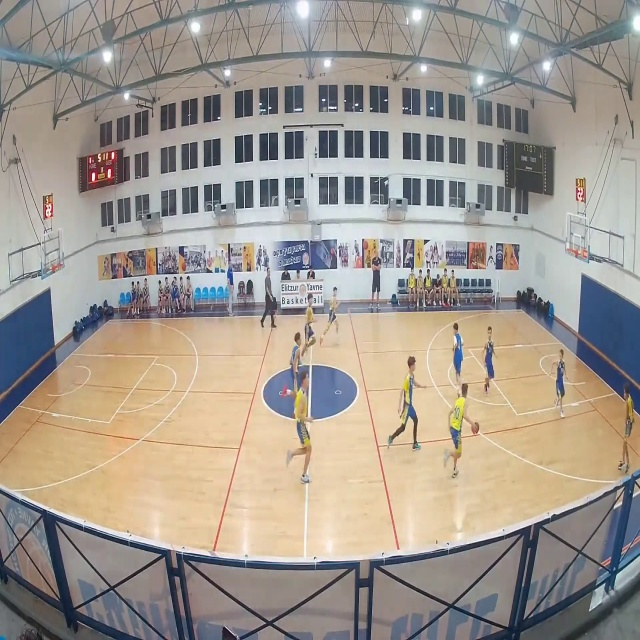Basketball: (471, 421, 479, 434)
